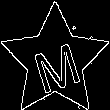M_N: (27, 30, 83, 92)
